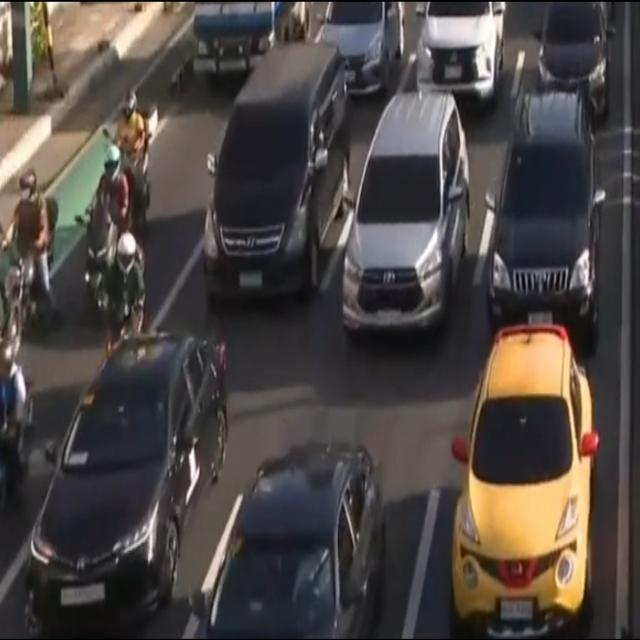Motorcycle: (0, 160, 63, 319), (78, 145, 133, 313), (103, 73, 159, 234)
SUV: (450, 322, 600, 632), (338, 91, 470, 337), (483, 93, 607, 335), (414, 0, 505, 102)
Sedan: (22, 328, 228, 636), (187, 441, 382, 640), (310, 2, 408, 100), (532, 0, 618, 105)
Van: (200, 43, 350, 308)
